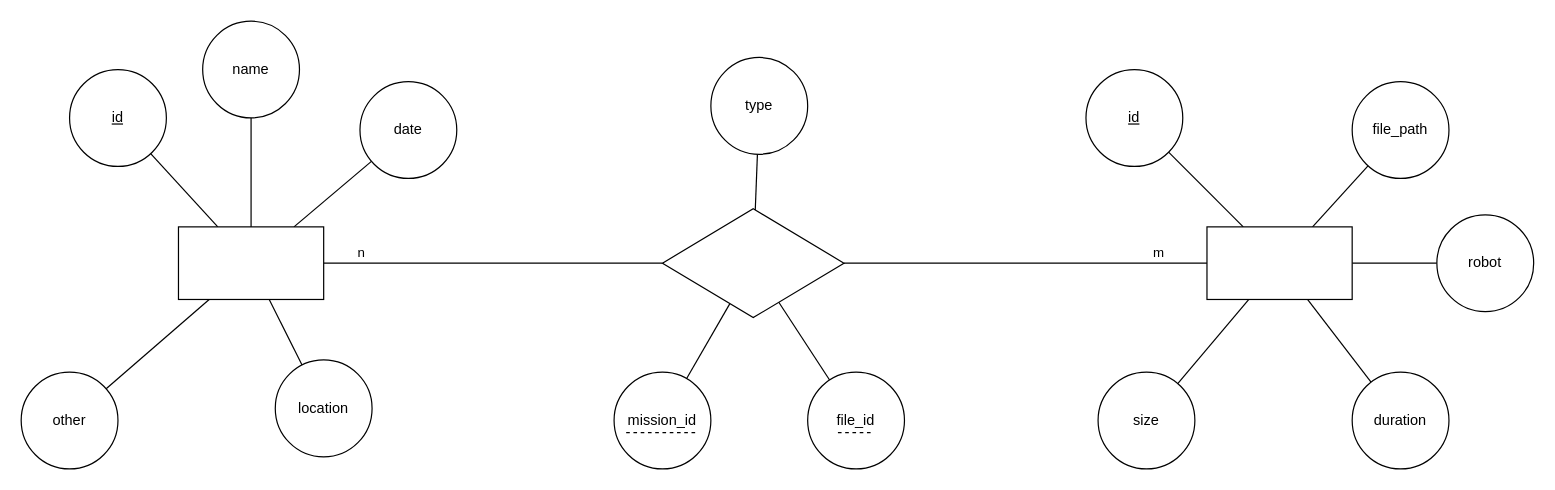
Some shapes in this 1555 by 490 pixel diagram are drawn without their labels. Here are the shapes that lost their labels. From the top down, the box of each, then its label:
(177, 226, 324, 299): missions
(661, 208, 844, 318): mission_files
(1206, 226, 1352, 299): files
